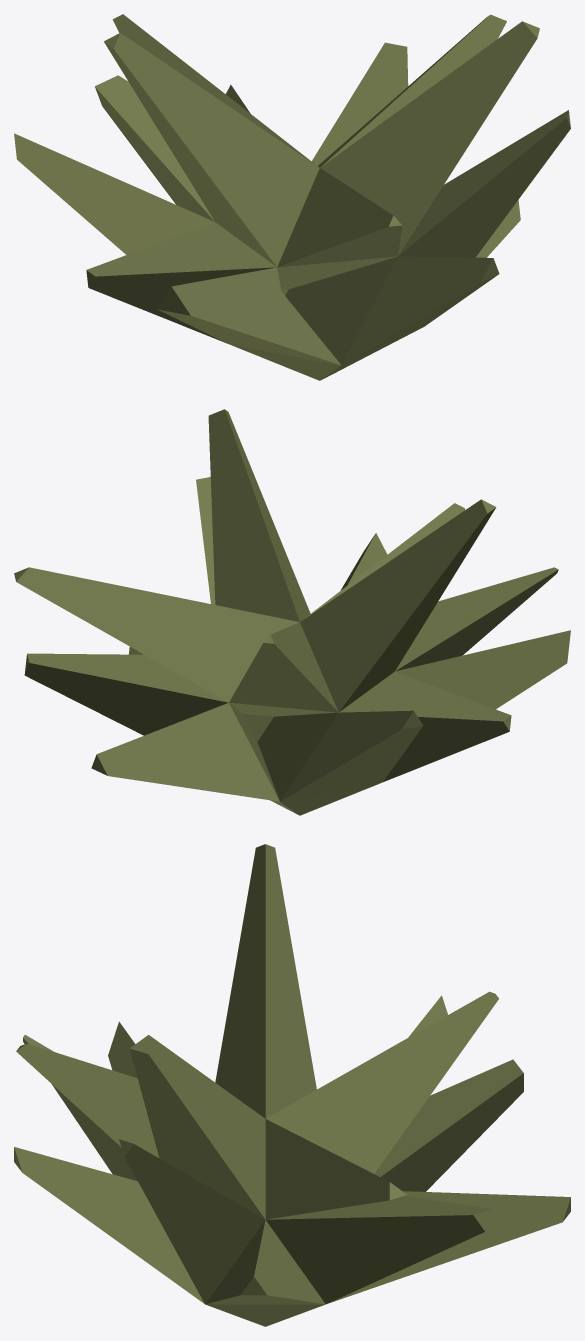
Rendered from Grass_02.fbx.
The picture shows the model from 3 angles, top to bottom: view 1: azimuth 30°, elevation 25°; view 2: azimuth 150°, elevation 25°; view 3: azimuth 270°, elevation 25°; orthographic projection. The views are drawn at different scales.
Parts seen in each view (by area): view 1: Grass_02a; view 2: Grass_02a; view 3: Grass_02a.
Boxes of the visible parts, <box> form: Grass_02a: <box>14,14,570,380</box>; Grass_02a: <box>14,409,570,815</box>; Grass_02a: <box>14,844,570,1326</box>.
Bounding box in the file's own units: 47.53 × 37.39 × 48.68.
